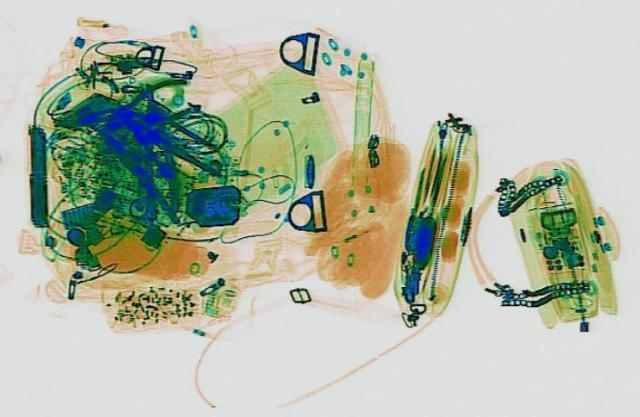Pliers: (52, 96, 244, 221), (64, 74, 204, 137)
